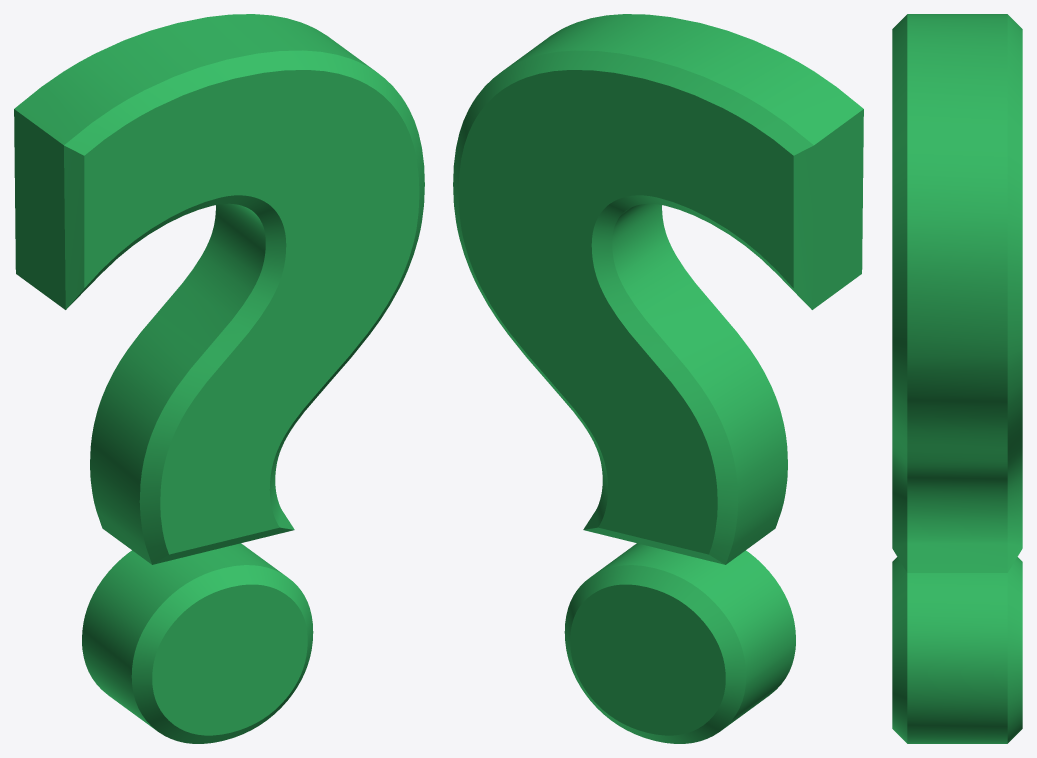
Rendered from quizmarker.fbx.
The picture shows the model from 3 angles, left to right: view 1: azimuth 30°, elevation 25°; view 2: azimuth 150°, elevation 25°; view 3: azimuth 270°, elevation 25°; orthographic projection.
Visible parts, largest first — view 1: Cap_1, Extrude, Rounding_1; view 2: Cap_2, Extrude, Rounding_2; view 3: Extrude, Rounding_1, Rounding_2.
Part boxes in pixels (<box>): Cap_1: <box>84,70,419,735</box>; Extrude: <box>14,14,375,730</box>; Rounding_1: <box>64,50,424,743</box>; Cap_2: <box>458,70,793,735</box>; Extrude: <box>502,14,863,730</box>; Rounding_2: <box>453,50,813,743</box>; Extrude: <box>907,14,1007,743</box>; Rounding_1: <box>892,14,907,743</box>; Rounding_2: <box>1007,14,1022,743</box>.
Bounding box in the file's own units: 83.64 × 151 × 26.
